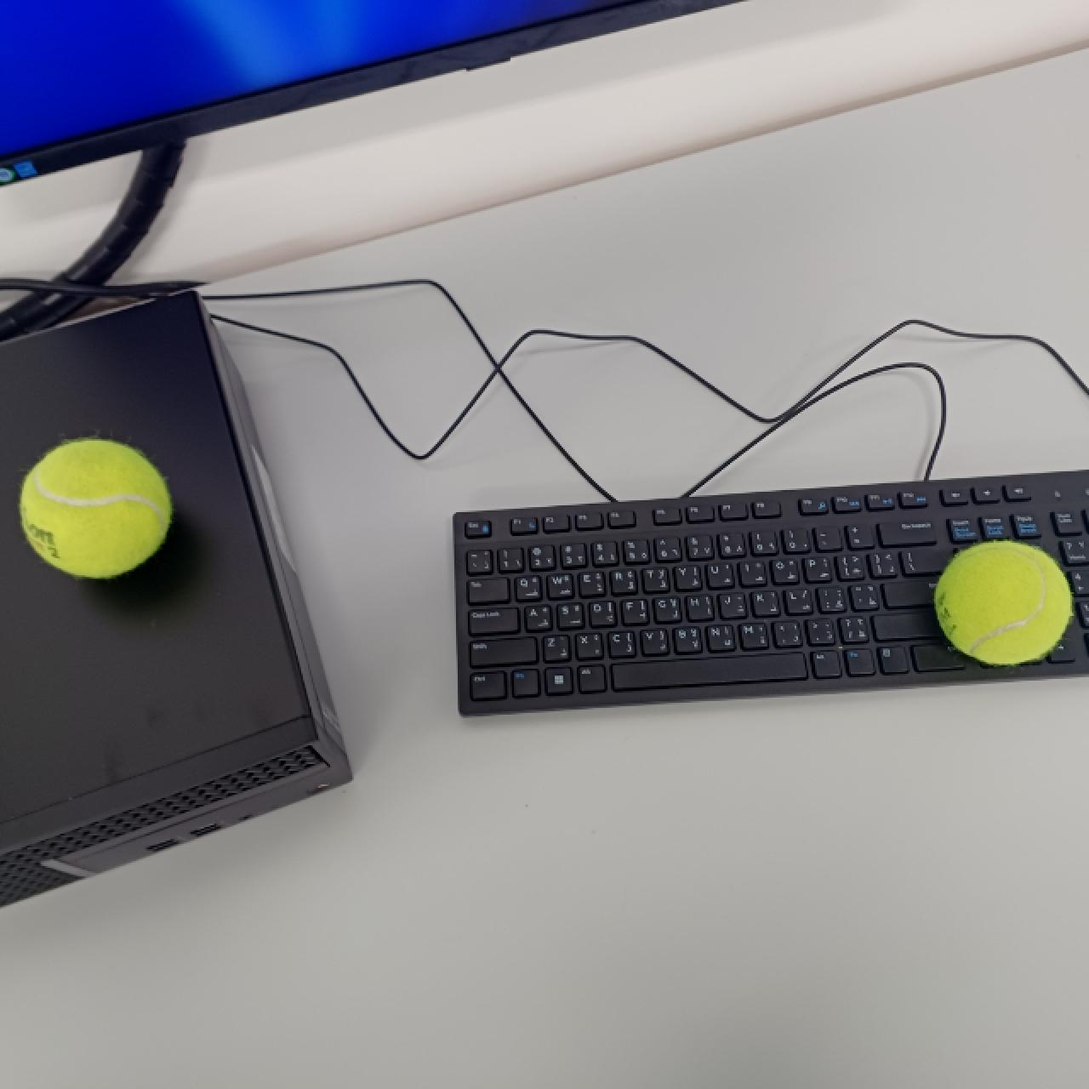tennis-ball: (15, 439, 176, 577), (934, 543, 1075, 667)
